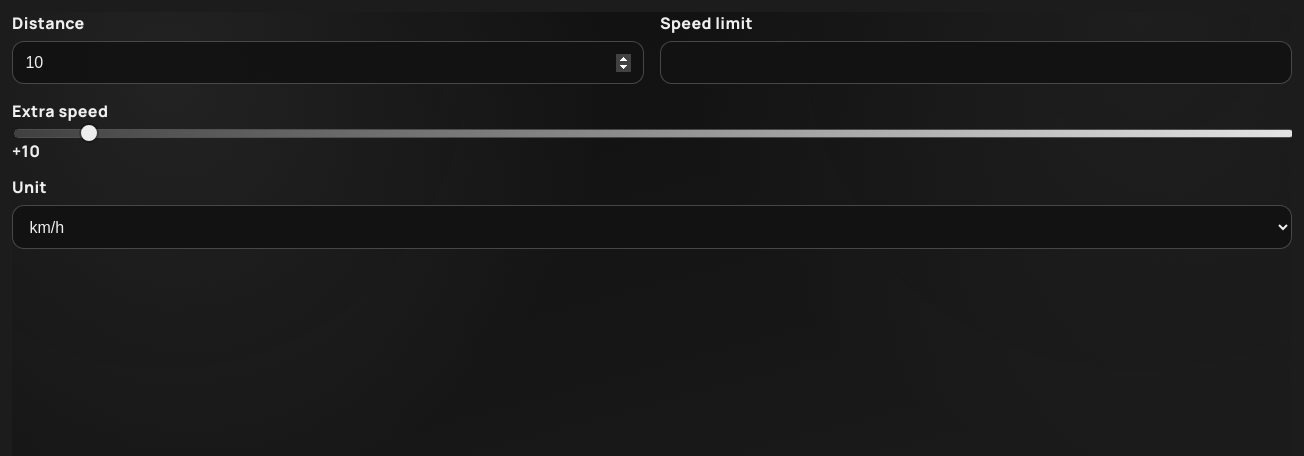
Scenario: SpeedCalculatorForm › shows exact saved time in minutes and seconds when gain reaches at least one minute
This screenshot has width=1304, height=456.
Replace the text in the number field labelled "Distance" with "20". click: (328, 62)
box: [12,41,644,84]
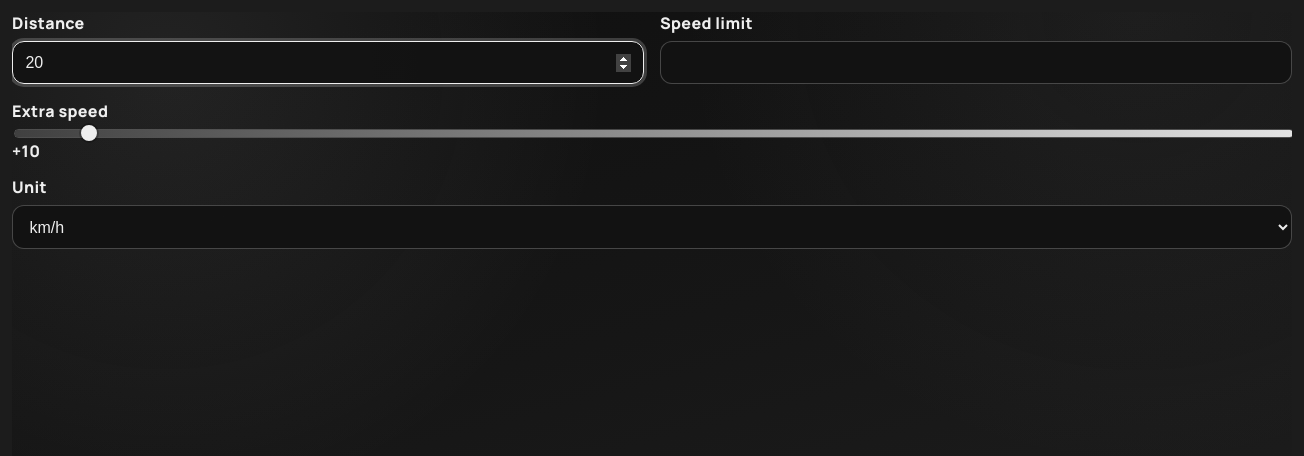
Type "60" into the number field labelled "Speed limit". click: (976, 62)
box: [660,41,1292,84]
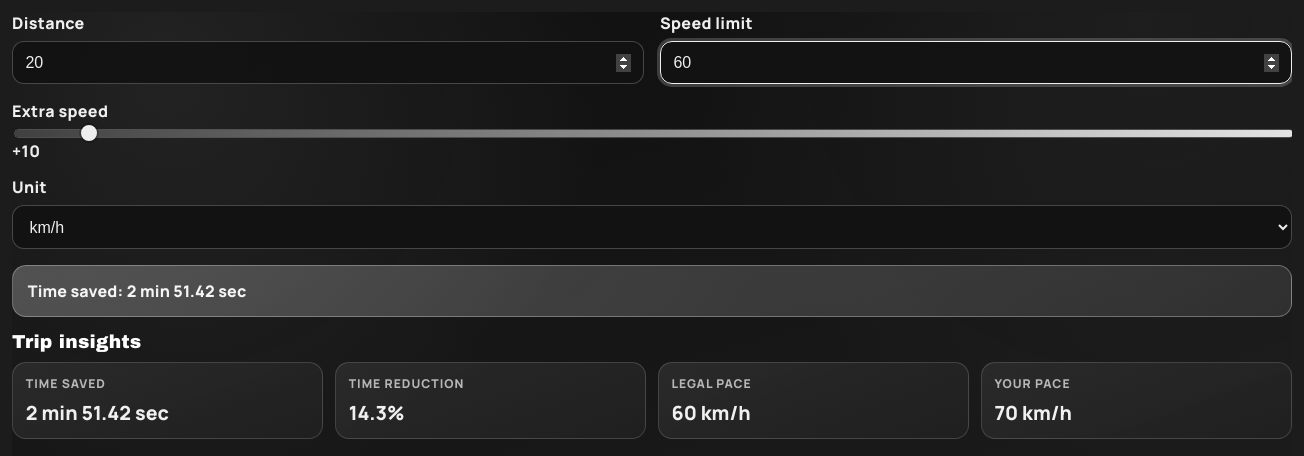
Expected: the text "Time saved: 2 min 51.42 sec" is shown, [12,265,1292,317]
